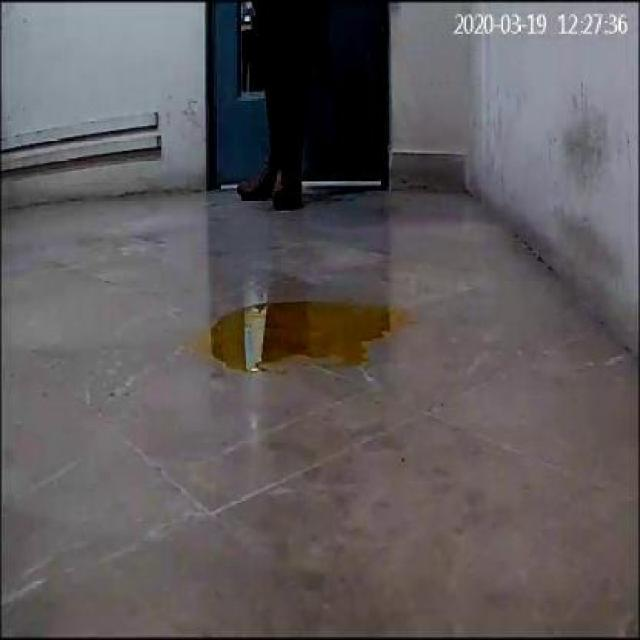spill: (186, 294, 412, 372)
